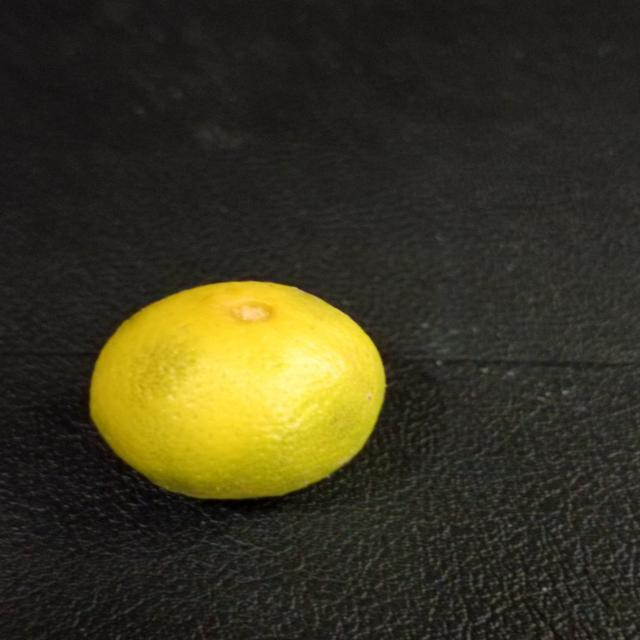greening: (86, 278, 394, 502)
